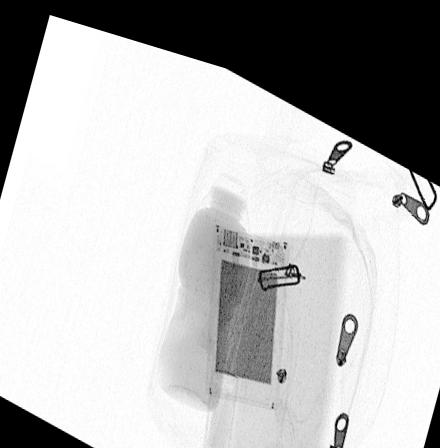Powerbank: (206, 209, 289, 394)
